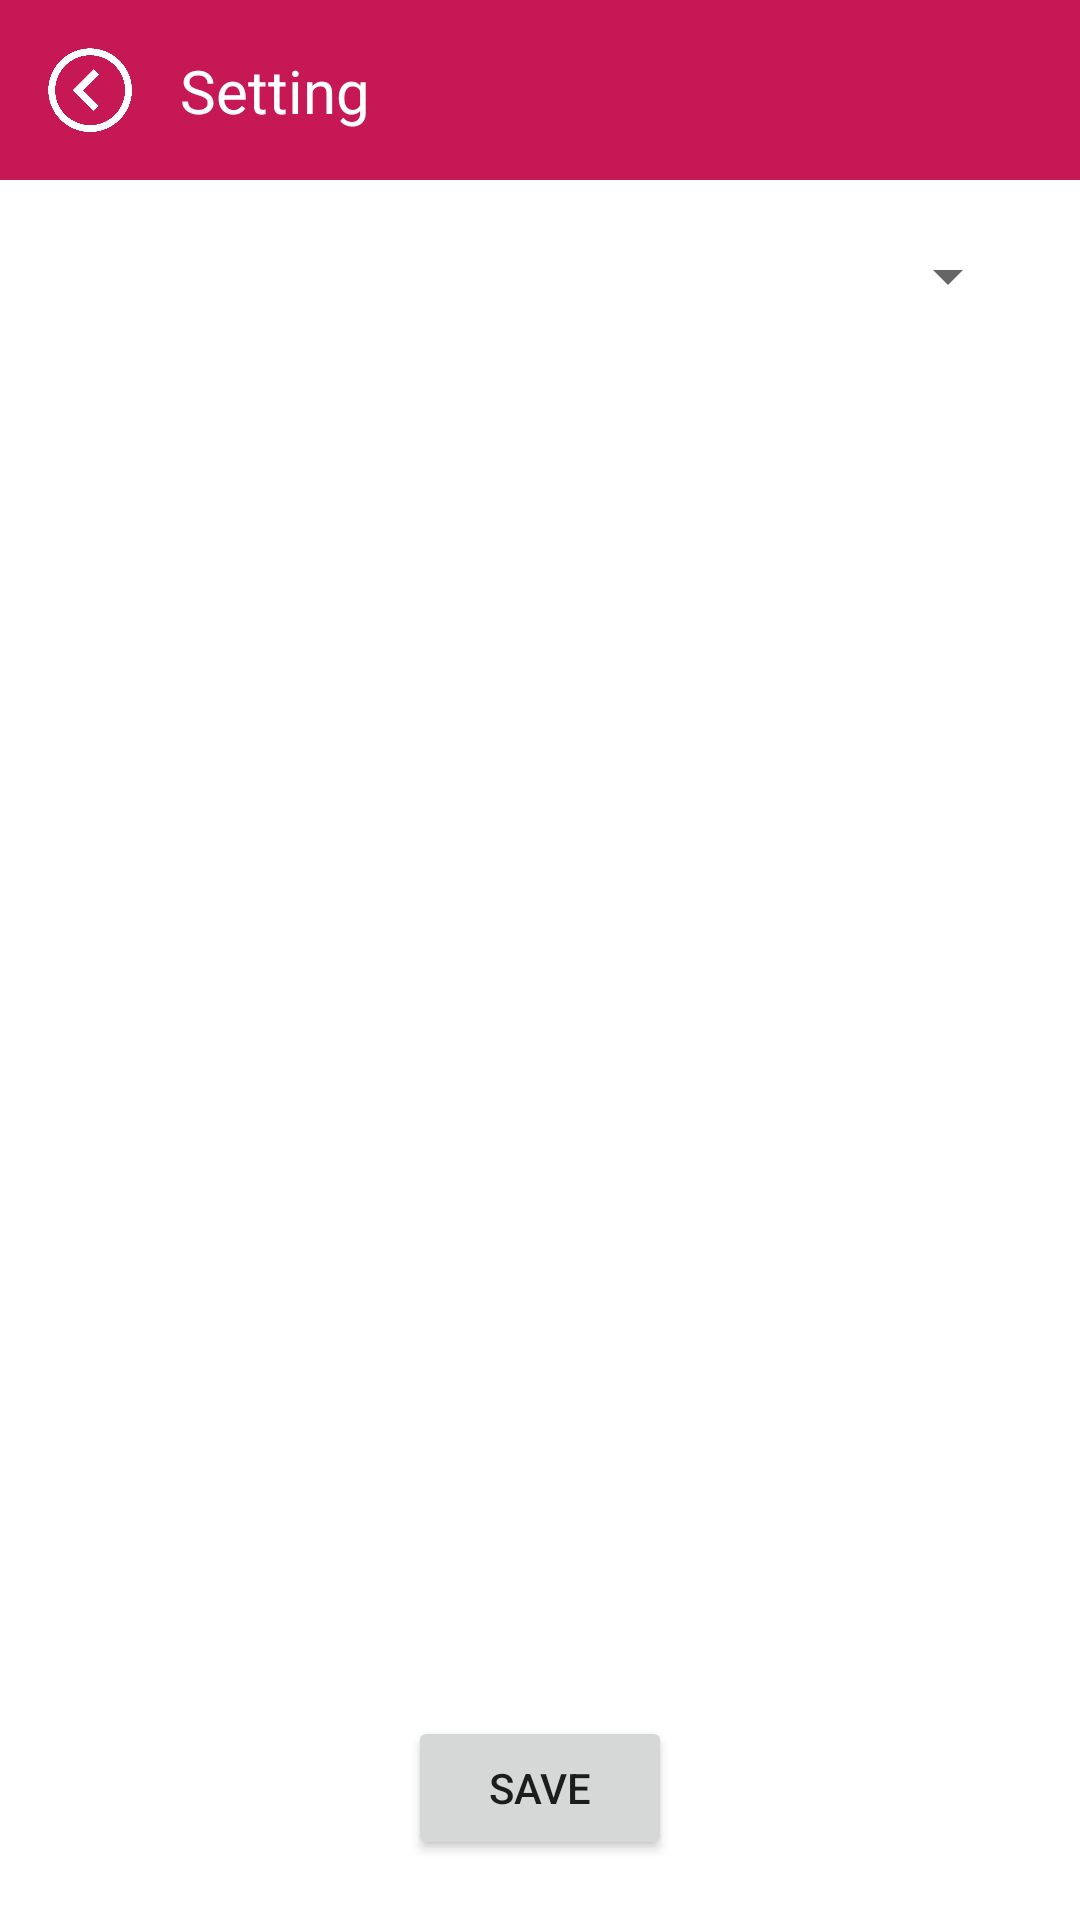

Icons on this 1080 x 1920 Android screen, each with its box as (x1, y1, x2, y2):
back: (48, 48, 132, 132)
